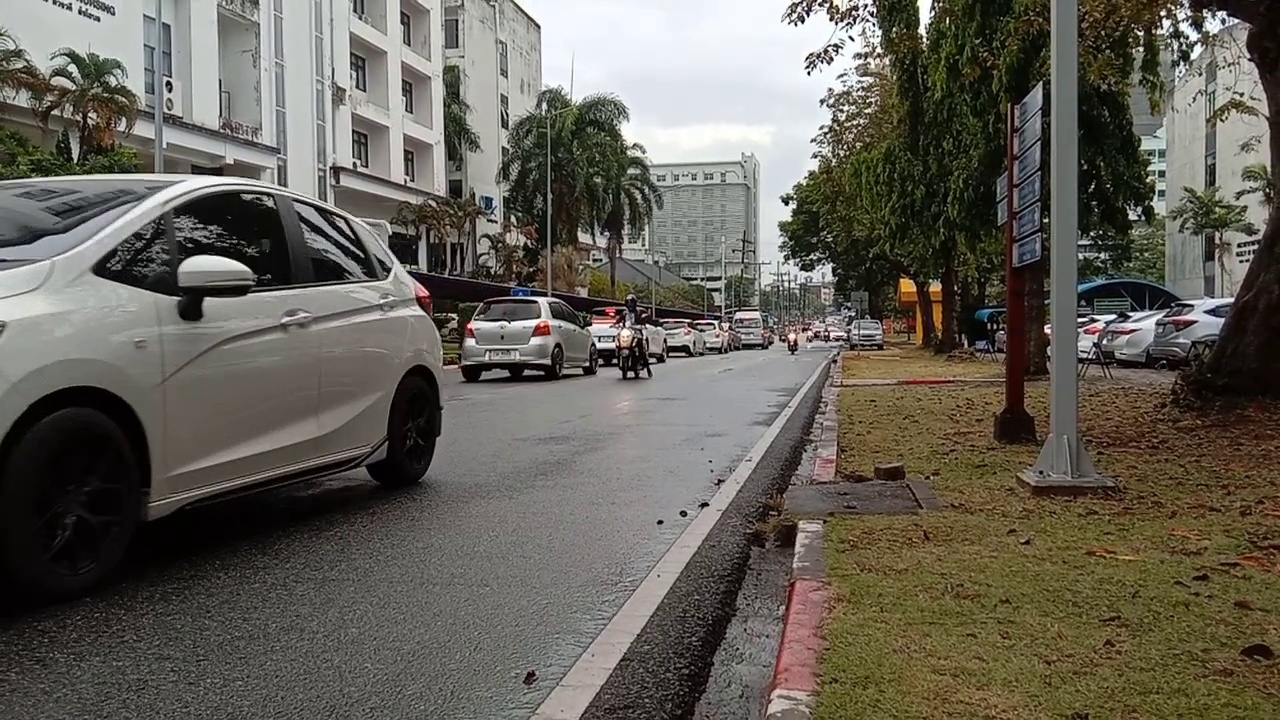License Plate: (487, 346, 511, 363)
